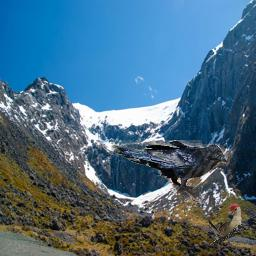Crow: (111, 140, 228, 203)
Woodpecker: (209, 204, 242, 248)
